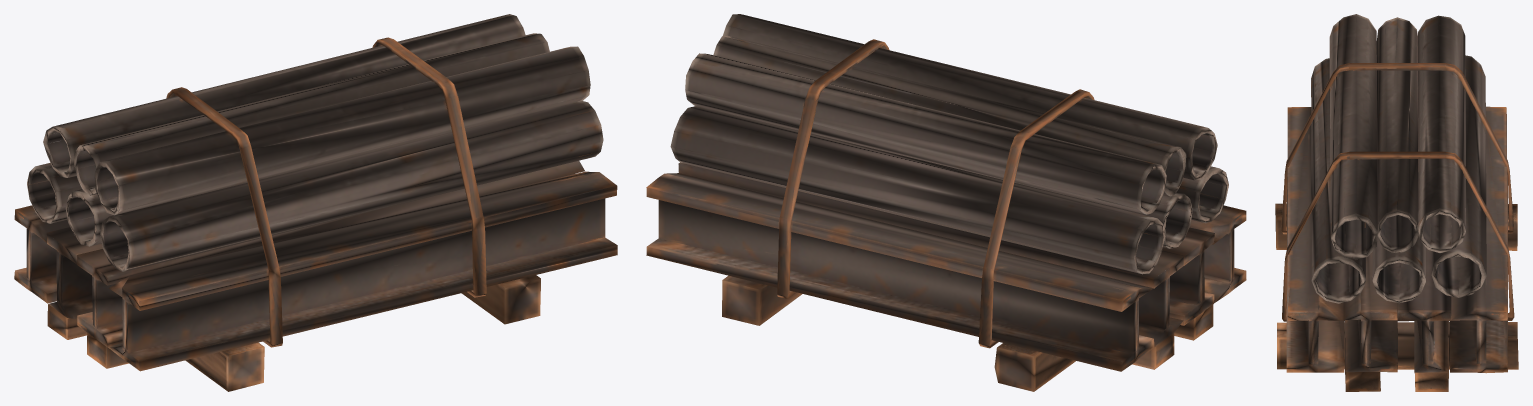
File: Meshy_AI_Bundled_Metal_Pipes_0910090059_texture.fbx
3 renders of one model, left to right at view 1: azimuth 30°, elevation 25°; view 2: azimuth 150°, elevation 25°; view 3: azimuth 270°, elevation 25°, orthographic. The views are drawn at different scales.
Parts seen in each view (by area): view 1: Mesh_0; view 2: Mesh_0; view 3: Mesh_0.
Part boxes in pixels (x1,y1,x2,y2): Mesh_0: [14, 14, 617, 391]; Mesh_0: [646, 14, 1246, 391]; Mesh_0: [1275, 14, 1518, 391].
Size of the model in its own units: 100 by 43.95 by 50.39.
1 material, 1 textured.
